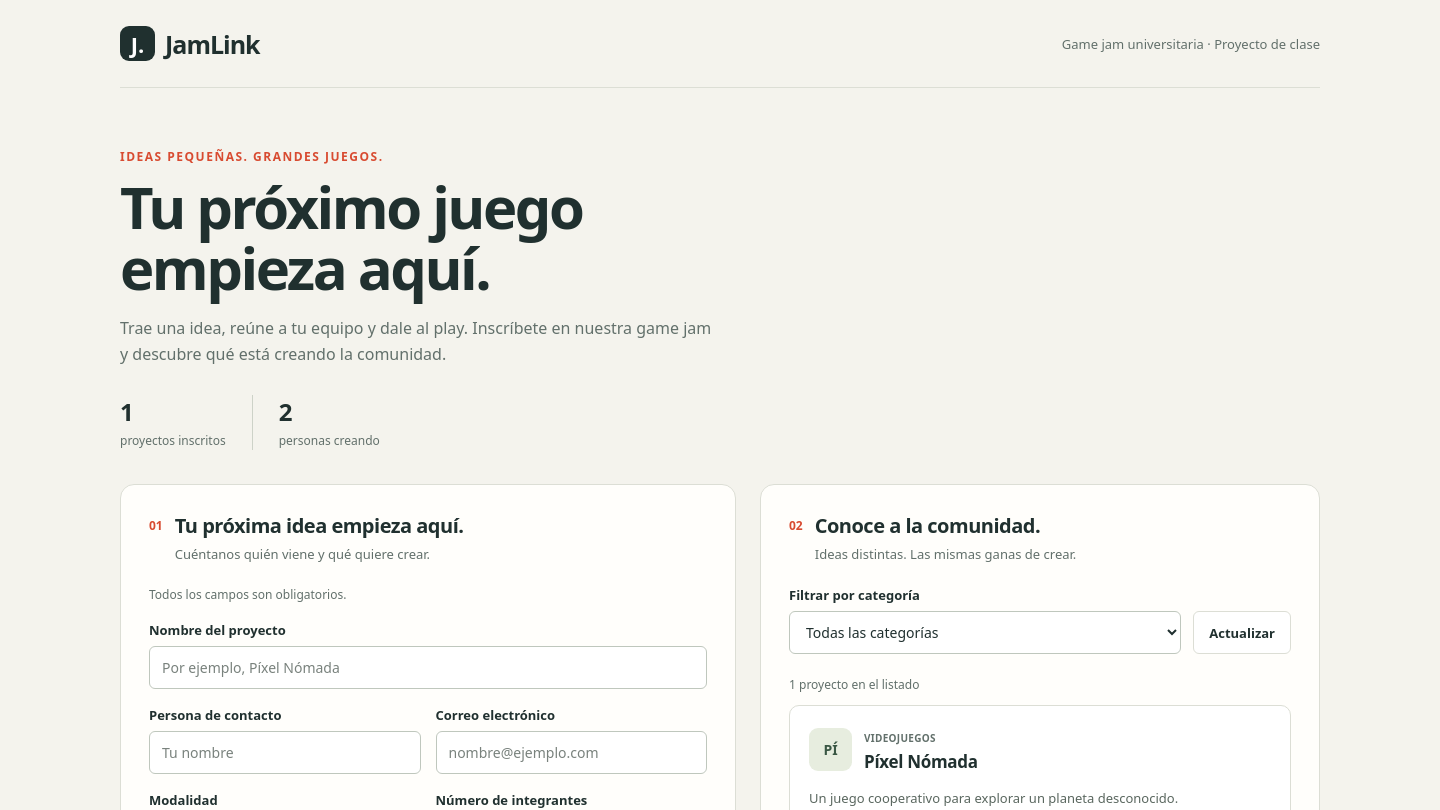
JamLink: formulario y listado conectados › filtra por categoría y explica cuándo no hay coincidencias
expect the heading "Píxel Nómada" is shown: met, box [864, 750, 978, 773]
Select "Sonido y música" in the dropdown labelled "Filtrar por categoría" at (985, 633), box [789, 611, 1181, 654]
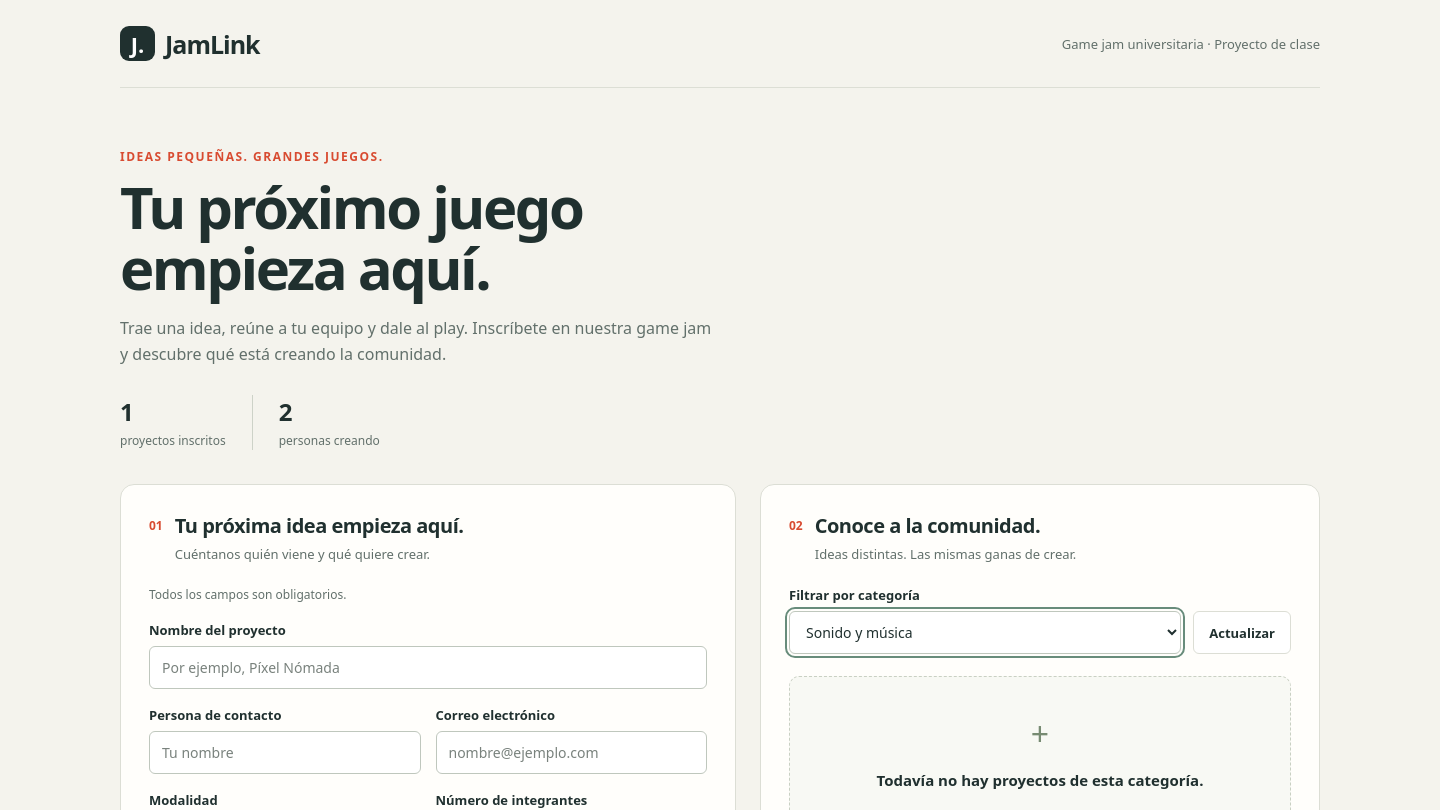
expect the heading "Todavía no hay proyectos de esta categoría." is shown: met, box [876, 770, 1203, 790]
Select "Todas las categorías" in the dropdown labelled "Filtrar por categoría" at (985, 633), box [789, 611, 1181, 654]
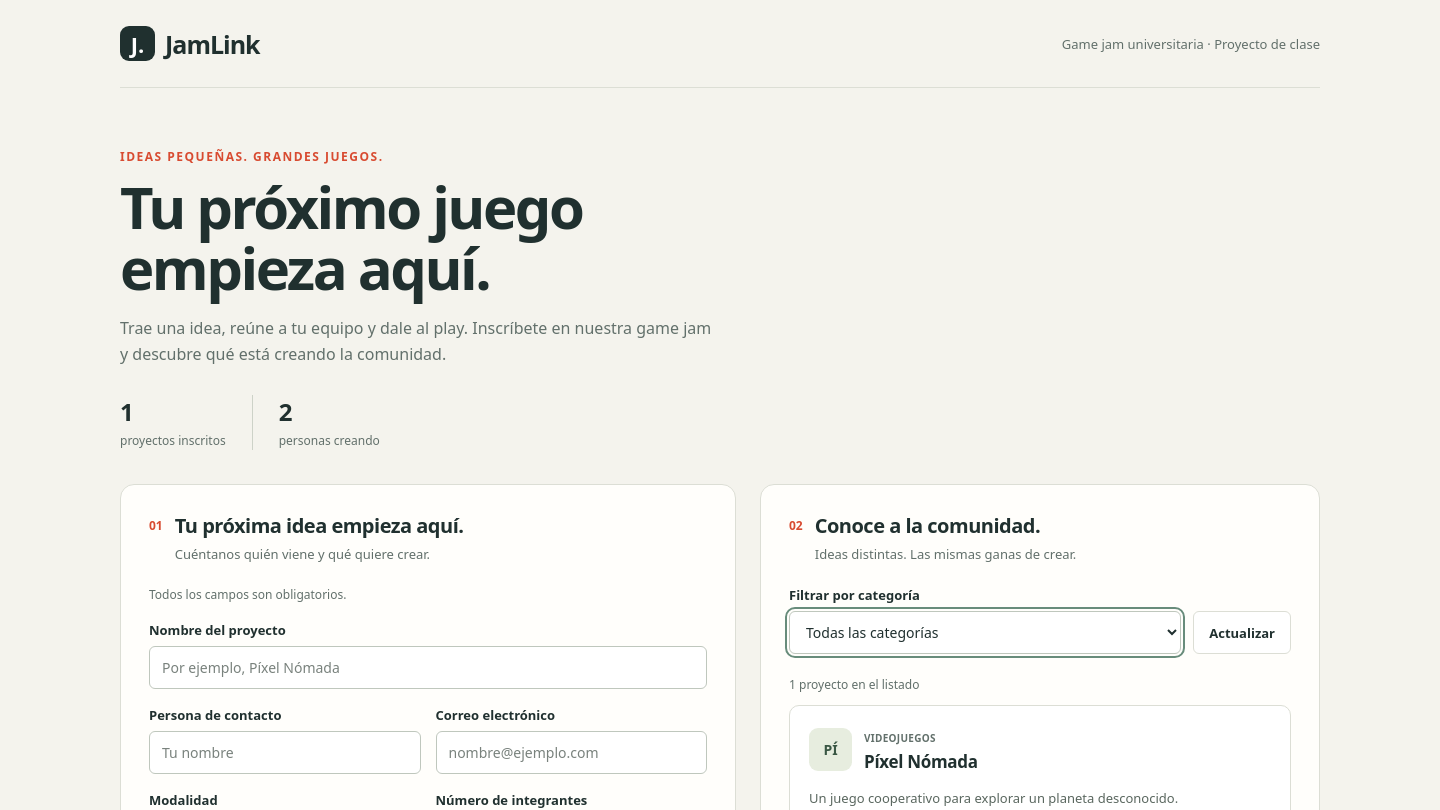
expect the heading "Píxel Nómada" is shown: met, box [864, 750, 978, 773]
